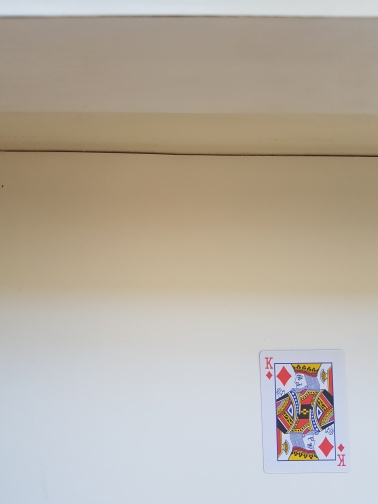king: (258, 346, 349, 475)
